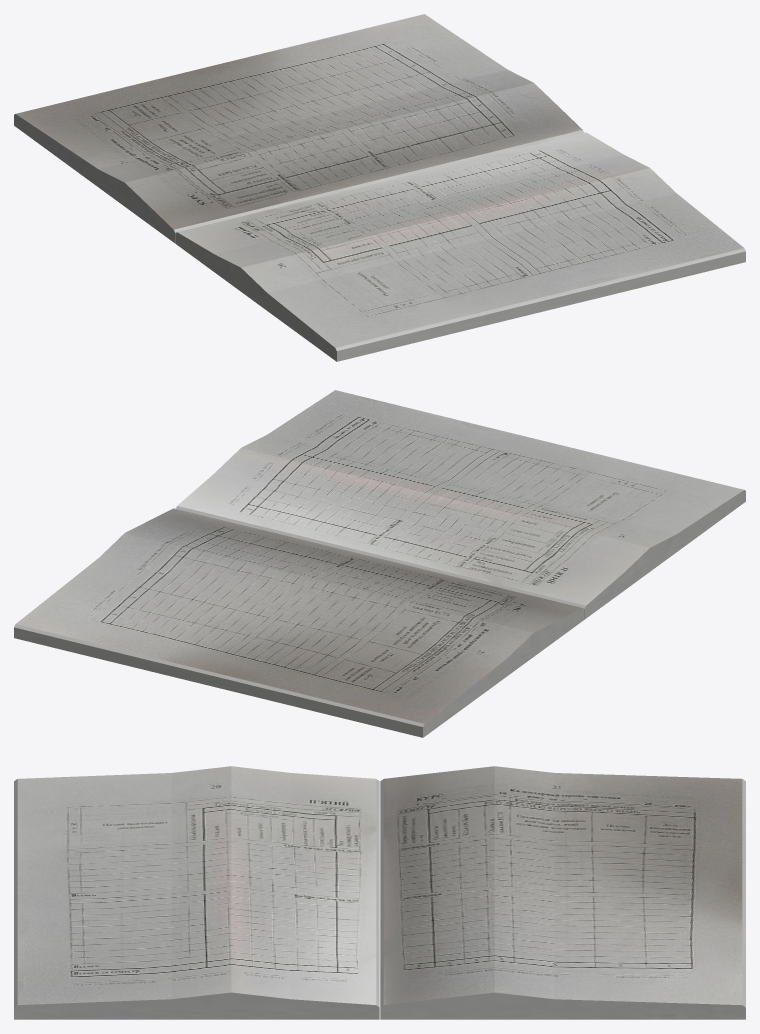
Rendered from Notebook.glb.
The picture shows the model from 3 angles, top to bottom: view 1: azimuth 30°, elevation 25°; view 2: azimuth 150°, elevation 25°; view 3: azimuth 270°, elevation 25°; orthographic projection. The views are drawn at different scales.
Parts seen in each view (by area): view 1: Plane.001; view 2: Plane.001; view 3: Plane.001.
Boxes of the visible parts, box(x1,y1,x2,y2) form: Plane.001: box(14, 14, 745, 361); Plane.001: box(14, 390, 745, 737); Plane.001: box(14, 766, 745, 1019).
Size of the model in its own units: 2.93 by 0.1644 by 4.
Materials: 1 (1 with a texture image).
